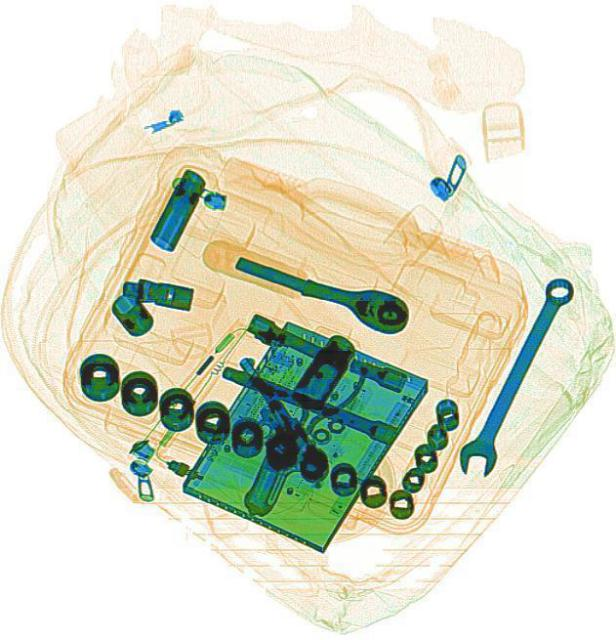Gun: (171, 349, 333, 521)
